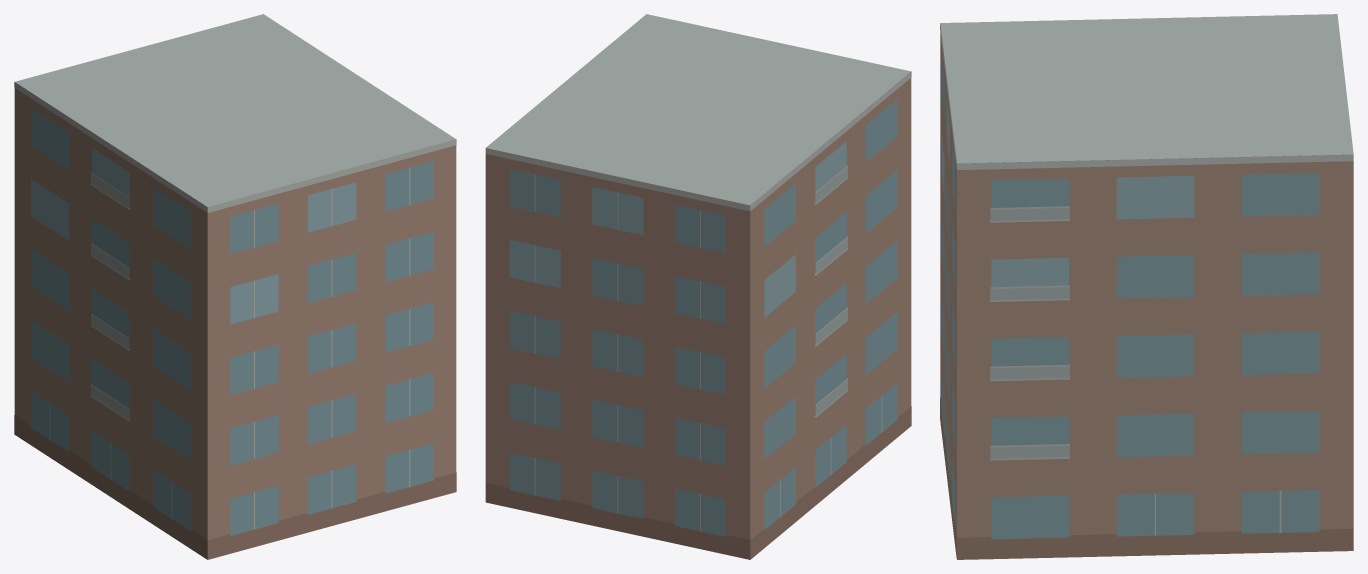
File: survey-upis-32879826.glb
The picture shows the model from 3 angles, left to right: view 1: azimuth 30°, elevation 25°; view 2: azimuth 150°, elevation 25°; view 3: azimuth 270°, elevation 25°; orthographic projection. The views are drawn at different scales.
Visible parts, largest first — view 1: survey-upis-32879826.tmp; view 2: survey-upis-32879826.tmp; view 3: survey-upis-32879826.tmp.
Boxes of the visible parts, left/top/right/bottom form: survey-upis-32879826.tmp: left=14, top=14, right=456, bottom=559; survey-upis-32879826.tmp: left=485, top=14, right=911, bottom=559; survey-upis-32879826.tmp: left=940, top=14, right=1353, bottom=559.
Bounding box in the file's own units: 11.74 × 14.5 × 13.72.
